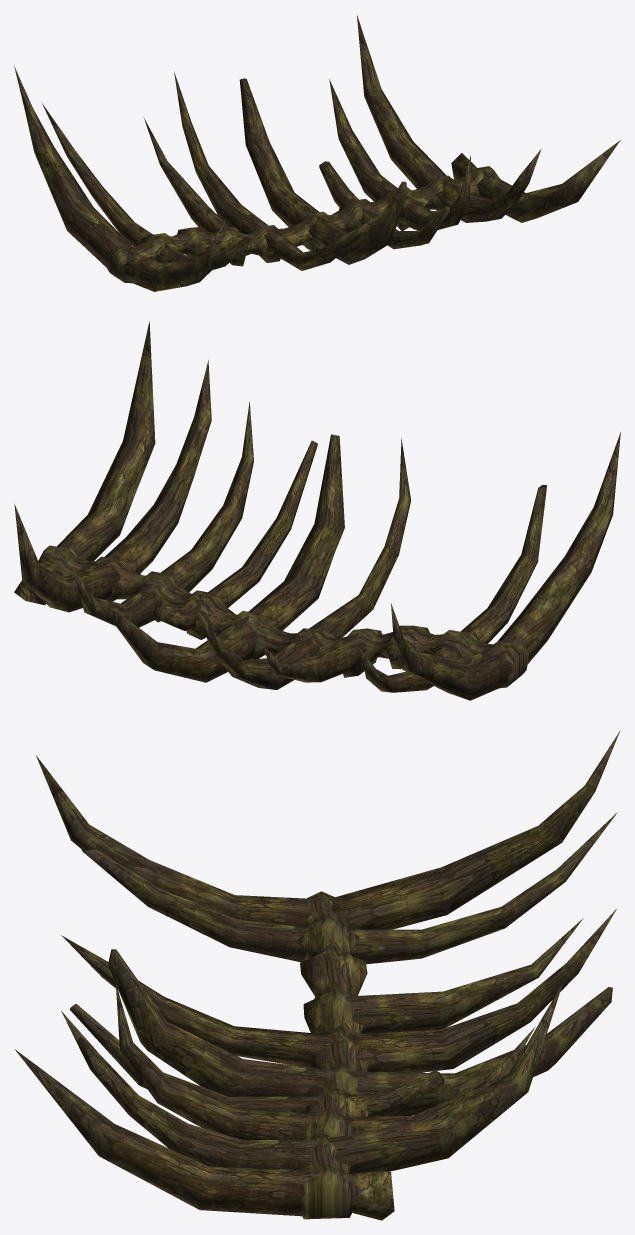
File: 10204_bone01.FBX
3 renders of one model, top to bottom at view 1: azimuth 30°, elevation 25°; view 2: azimuth 150°, elevation 25°; view 3: azimuth 270°, elevation 25°, orthographic. The views are drawn at different scales.
Visible parts, largest first — view 1: 10204_bone01; view 2: 10204_bone01; view 3: 10204_bone01.
Part boxes in pixels (x1,y1,x2,y2): 10204_bone01: [14, 15, 620, 291]; 10204_bone01: [14, 321, 620, 700]; 10204_bone01: [14, 730, 620, 1220].
Size of the model in its own units: 1157 by 448 by 1002.
